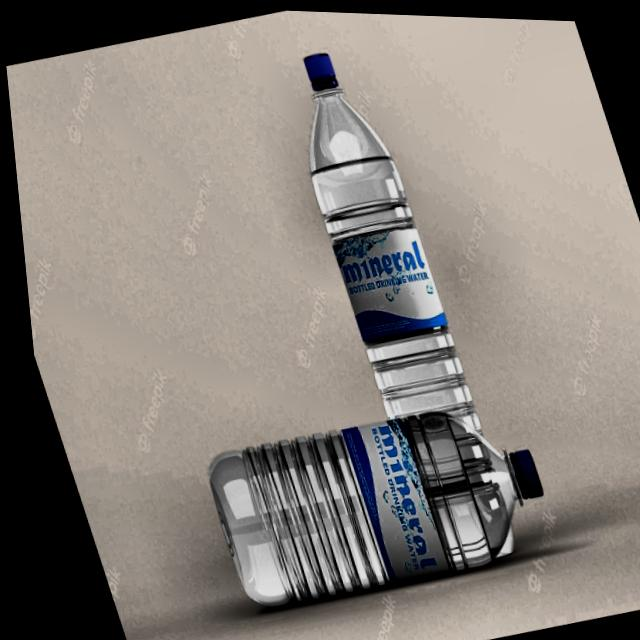Bottles: (255, 14, 545, 595), (164, 358, 580, 640)
